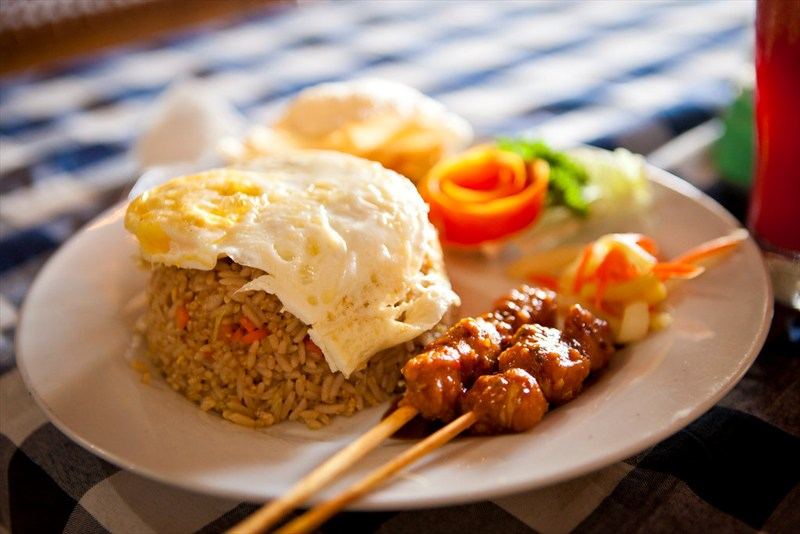Nasi Goreng: (167, 66, 673, 459)
